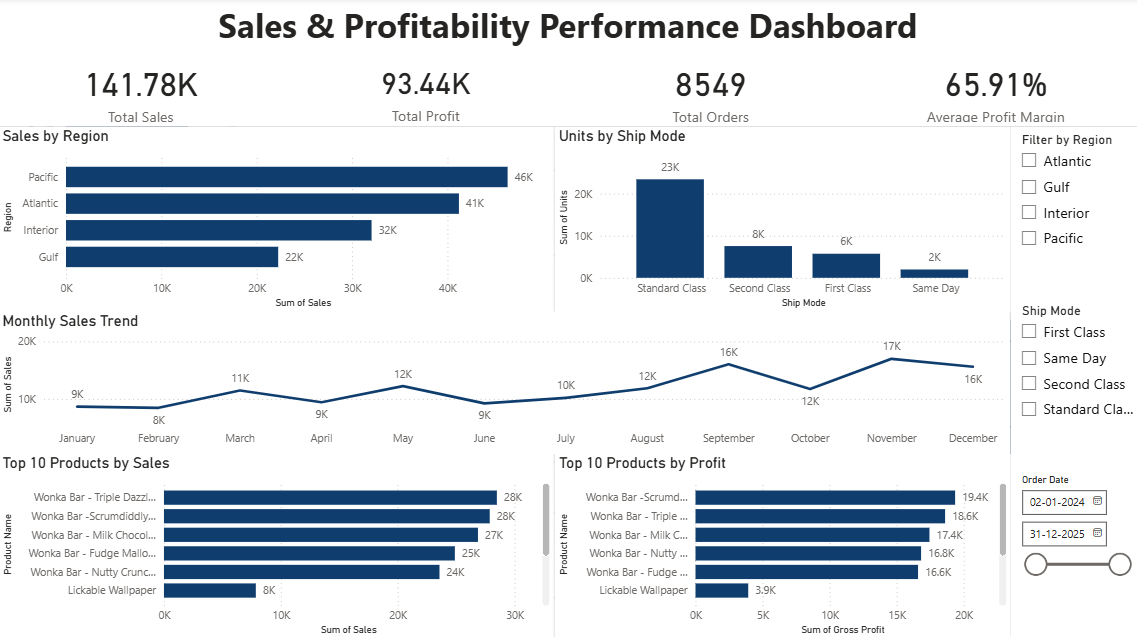

The page's visual inventory and layout, read from the dashboard file:
{"tool":"powerbi","page":{"name":"Sales Overview","canvas":[1280,720],"ordinal":0},"visuals":[{"type":"card","fields":{"Values":["Measures (3).Total Sales"]},"box":[0,0,272,96],"z":0},{"type":"card","fields":{"Values":["Measures (3).Total Profit"]},"box":[288,0,272,96],"z":1000},{"type":"card","fields":{"Values":["Measures (3).Total Orders"]},"box":[608,0,336,96],"z":2000},{"type":"card","fields":{"Values":["Measures (3).Avg Order Value"]},"box":[960,0,320,96],"z":3000},{"type":"clusteredBarChart","title":"Sales by Region","fields":{"Category":["cleaned_data.Region"],"Y":["Measures (3).Total Sales"]},"box":[0,96,272,104],"z":4000},{"type":"clusteredBarChart","fields":{"Category":["cleaned_data.Product Name"],"Y":["Sum(cleaned_data.Sales)"]},"box":[0,288,272,150],"z":5000},{"type":"lineChart","fields":{"Y":["Sum(cleaned_data.Sales)"],"Category":["cleaned_data.Order Date.Variation.Date Hierarchy.Month"]},"box":[0,494,272,150],"z":6000},{"type":"shape","box":[1136,144,144,576],"z":7000},{"type":"shape","box":[10,362,1120,160],"z":8000},{"type":"shape","box":[10,512,1136,208],"z":9000},{"type":"shape","box":[10,154,1136,208],"z":10000},{"type":"shape","box":[0,74,1280,80],"z":11000},{"type":"card","fields":{"Values":["Sum(final_dashboard_data.Sales)"]},"box":[0,64,320,80],"z":12000},{"type":"card","fields":{"Values":["Sum(final_dashboard_data.Gross Profit)"]},"box":[320,64,320,80],"z":13000},{"type":"card","fields":{"Values":["Count(final_dashboard_data.Order ID)"]},"box":[640,64,320,80],"z":14000},{"type":"card","fields":{"Values":["final_dashboard_data.Average Profit Margin"]},"box":[960,64,320,80],"z":15000},{"type":"clusteredBarChart","title":"Sales by Region","fields":{"Category":["final_dashboard_data.Region"],"Y":["Sum(final_dashboard_data.Sales)"]},"box":[0,144,624,208],"z":16000},{"type":"clusteredBarChart","title":"Top 10 Products by Sales","fields":{"Category":["final_dashboard_data.Product Name"],"Y":["Sum(final_dashboard_data.Sales)"]},"box":[0,512,624,208],"z":17000},{"type":"lineChart","title":"Monthly Sales Trend","fields":{"Category":["final_dashboard_data.Order Date.Variation.Date Hierarchy.Month"],"Y":["Sum(final_dashboard_data.Sales)"]},"box":[0,352,1136,160],"z":18000},{"type":"clusteredBarChart","title":"Top 10 Products by Profit","fields":{"Category":["final_dashboard_data.Product Name"],"Y":["Sum(final_dashboard_data.Gross Profit)"]},"box":[624,512,512,208],"z":19000},{"type":"slicer","fields":{"Values":["final_dashboard_data.Region"]},"box":[1136,144,144,192],"z":20000},{"type":"slicer","fields":{"Values":["final_dashboard_data.Ship Mode"]},"box":[1136,336,144,192],"z":21000},{"type":"slicer","fields":{"Values":["final_dashboard_data.Order Date"]},"box":[1136,528,144,192],"z":22000},{"type":"clusteredColumnChart","title":"Units by Ship Mode","fields":{"Category":["final_dashboard_data.Ship Mode"],"Y":["Sum(final_dashboard_data.Units)"]},"box":[624,144,512,208],"z":23000},{"type":"textbox","box":[0,10,1280,64],"z":24000}]}

Visuals, with their boxes in screenshot pixels (x1, y1, x2, y2), scaled from the page's 1280x720 canvas onto the 1137x637 screenshot:
card - Measures (3).Total Sales: Rect(0, 0, 242, 85)
card - Measures (3).Total Profit: Rect(256, 0, 497, 85)
card - Measures (3).Total Orders: Rect(540, 0, 839, 85)
card - Measures (3).Avg Order Value: Rect(853, 0, 1136, 85)
"Sales by Region" clusteredBarChart: Rect(0, 85, 242, 177)
clusteredBarChart - cleaned_data.Product Name x Sum(cleaned_data.Sales): Rect(0, 255, 242, 388)
lineChart - Sum(cleaned_data.Sales) x cleaned_data.Order Date.Variation.Date Hierarchy.Month: Rect(0, 437, 242, 570)
shape: Rect(1009, 127, 1136, 636)
shape: Rect(9, 320, 1004, 462)
shape: Rect(9, 453, 1018, 636)
shape: Rect(9, 136, 1018, 320)
shape: Rect(0, 65, 1136, 136)
card - Sum(final_dashboard_data.Sales): Rect(0, 57, 284, 127)
card - Sum(final_dashboard_data.Gross Profit): Rect(284, 57, 568, 127)
card - Count(final_dashboard_data.Order ID): Rect(568, 57, 853, 127)
card - final_dashboard_data.Average Profit Margin: Rect(853, 57, 1136, 127)
"Sales by Region" clusteredBarChart: Rect(0, 127, 554, 311)
"Top 10 Products by Sales" clusteredBarChart: Rect(0, 453, 554, 636)
"Monthly Sales Trend" lineChart: Rect(0, 311, 1009, 453)
"Top 10 Products by Profit" clusteredBarChart: Rect(554, 453, 1009, 636)
slicer - final_dashboard_data.Region: Rect(1009, 127, 1136, 297)
slicer - final_dashboard_data.Ship Mode: Rect(1009, 297, 1136, 467)
slicer - final_dashboard_data.Order Date: Rect(1009, 467, 1136, 636)
"Units by Ship Mode" clusteredColumnChart: Rect(554, 127, 1009, 311)
textbox: Rect(0, 9, 1136, 65)
